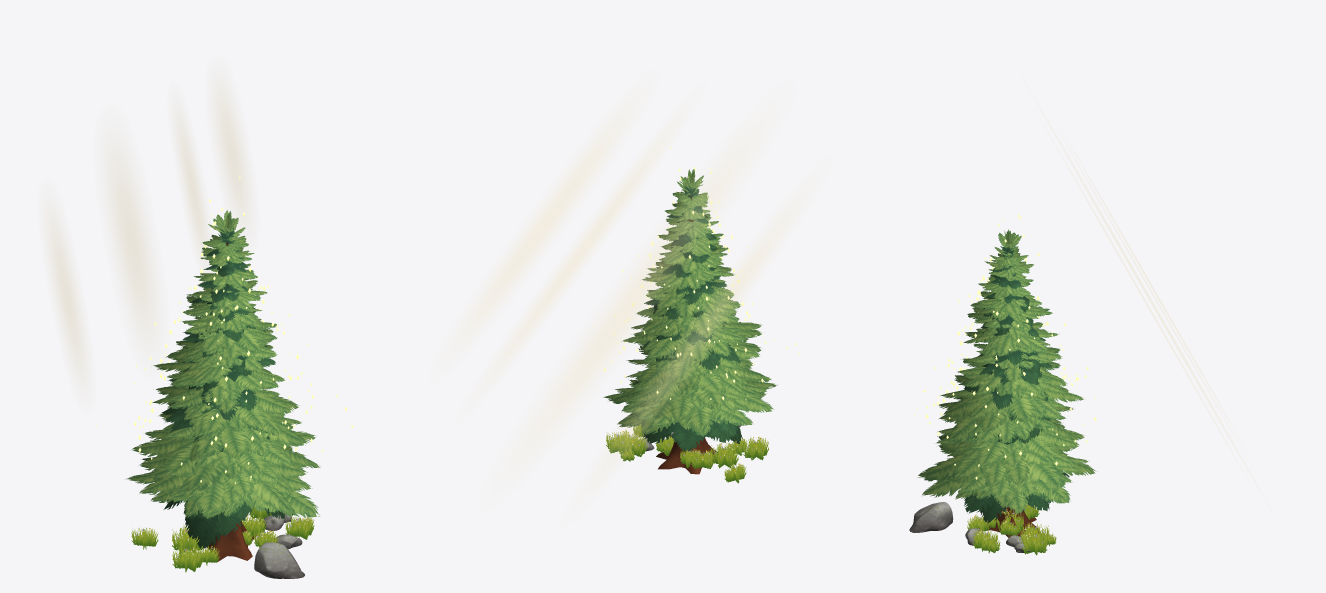
File: tree.glb
3 renders of one model, left to right at view 1: azimuth 30°, elevation 25°; view 2: azimuth 150°, elevation 25°; view 3: azimuth 270°, elevation 25°, orthographic. The views are drawn at different scales.
Parts seen in each view (by area): view 1: A1_PineTier12, FX_LightRay1, A1_PineTier11, A1_PineTier9, A1_PineTier8, A1_PineTier10, FX_LightRay0, FX_LightRay3, A1_PineTier6, A1_PineTierBase, A1_PineTier7, FX_LightRay2 (+12 smaller); view 2: FX_LightRay1, FX_LightRay0, FX_LightRay3, A1_PineTier12, FX_LightRay2, A1_PineTier9, A1_PineTier11, A1_PineTier10, A1_PineTier8, A1_PineTier6, A1_PineTierBase, A1_PineTier7 (+5 smaller); view 3: A1_PineTier12, A1_PineTier9, A1_PineTier11, A1_PineTierBase, A1_PineTier8, A1_PineTier10, A1_PineTier6, A1_PineTier7, A1_PineTier4, A1_PineTier5, A1_Pebble0, FX_GoldGlitter (+5 smaller).
Part boxes in pixels (bbox=[...]): A1_PineTier12: bbox=[139, 451, 307, 549]; FX_LightRay1: bbox=[108, 149, 154, 332]; A1_PineTier11: bbox=[132, 424, 320, 493]; A1_PineTier9: bbox=[152, 381, 298, 451]; A1_PineTier8: bbox=[153, 358, 284, 421]; A1_PineTier10: bbox=[159, 401, 306, 461]; FX_LightRay0: bbox=[49, 217, 84, 374]; FX_LightRay3: bbox=[215, 88, 248, 222]; A1_PineTier6: bbox=[182, 308, 277, 376]; A1_PineTierBase: bbox=[126, 447, 320, 518]; A1_PineTier7: bbox=[165, 329, 277, 390]; FX_LightRay2: bbox=[177, 116, 208, 261]; FX_LightRay1: bbox=[531, 150, 743, 441]; FX_LightRay0: bbox=[605, 215, 788, 466]; FX_LightRay3: bbox=[466, 119, 622, 331]; A1_PineTier12: bbox=[609, 371, 776, 451]; FX_LightRay2: bbox=[496, 137, 665, 369]; A1_PineTier9: bbox=[621, 321, 761, 370]; A1_PineTier11: bbox=[626, 346, 771, 409]; A1_PineTier10: bbox=[637, 336, 761, 393]; A1_PineTier8: bbox=[636, 296, 740, 359]; A1_PineTier6: bbox=[642, 261, 734, 317]; A1_PineTierBase: bbox=[604, 379, 765, 436]; A1_PineTier7: bbox=[644, 277, 733, 319]; A1_PineTier12: bbox=[917, 435, 1097, 522]; A1_PineTier9: bbox=[940, 375, 1083, 444]; A1_PineTier11: bbox=[936, 420, 1084, 486]; A1_PineTierBase: bbox=[922, 443, 1088, 514]; A1_PineTier8: bbox=[957, 349, 1067, 421]; A1_PineTier10: bbox=[939, 396, 1077, 443]; A1_PineTier6: bbox=[963, 322, 1058, 378]; A1_PineTier7: bbox=[964, 342, 1061, 389]; A1_PineTier4: bbox=[970, 289, 1041, 335]; A1_PineTier5: bbox=[967, 306, 1052, 353]; A1_Pebble0: bbox=[909, 502, 953, 532]; FX_GoldGlitter: bbox=[914, 214, 1096, 479].
Size of what is drawn, in the model's own units: 10.03 by 12.66 by 9.34.
Materials: 6 (5 with a texture image).
